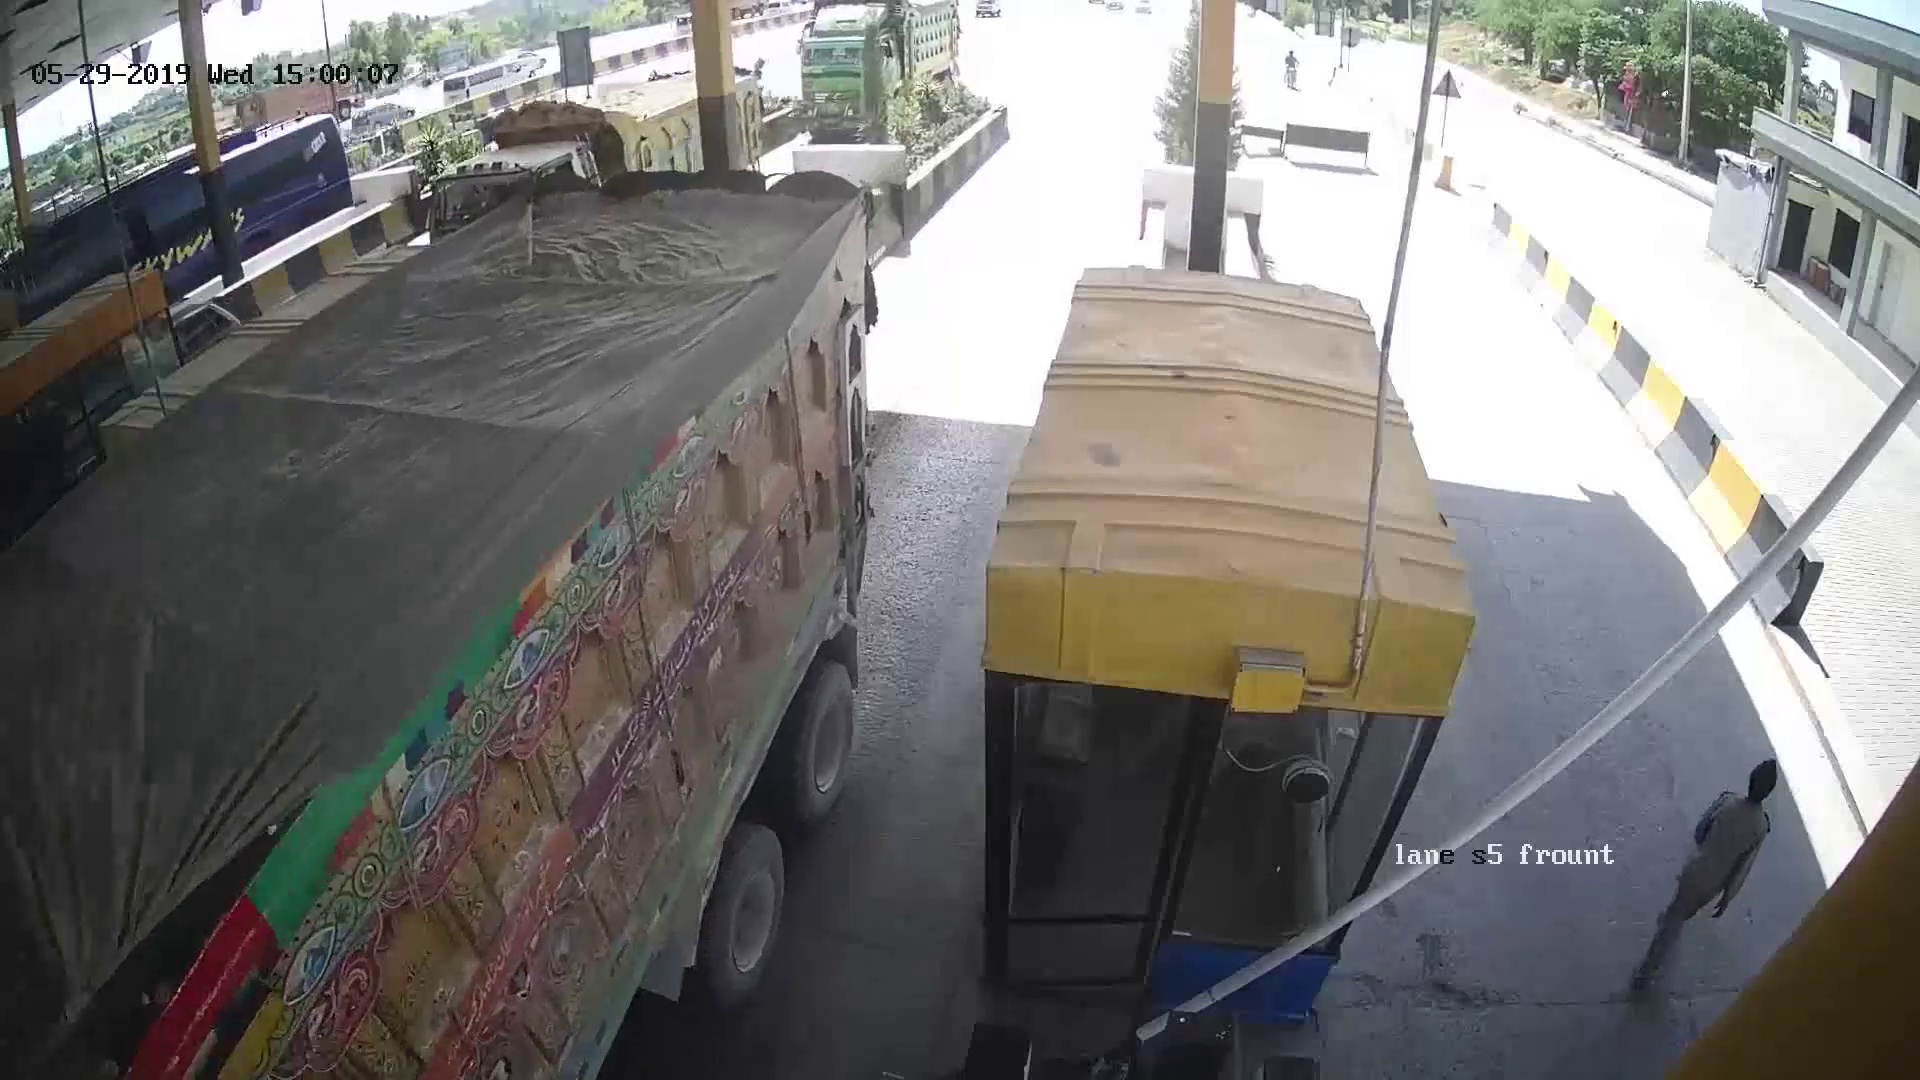truck: (55, 251, 848, 1044)
